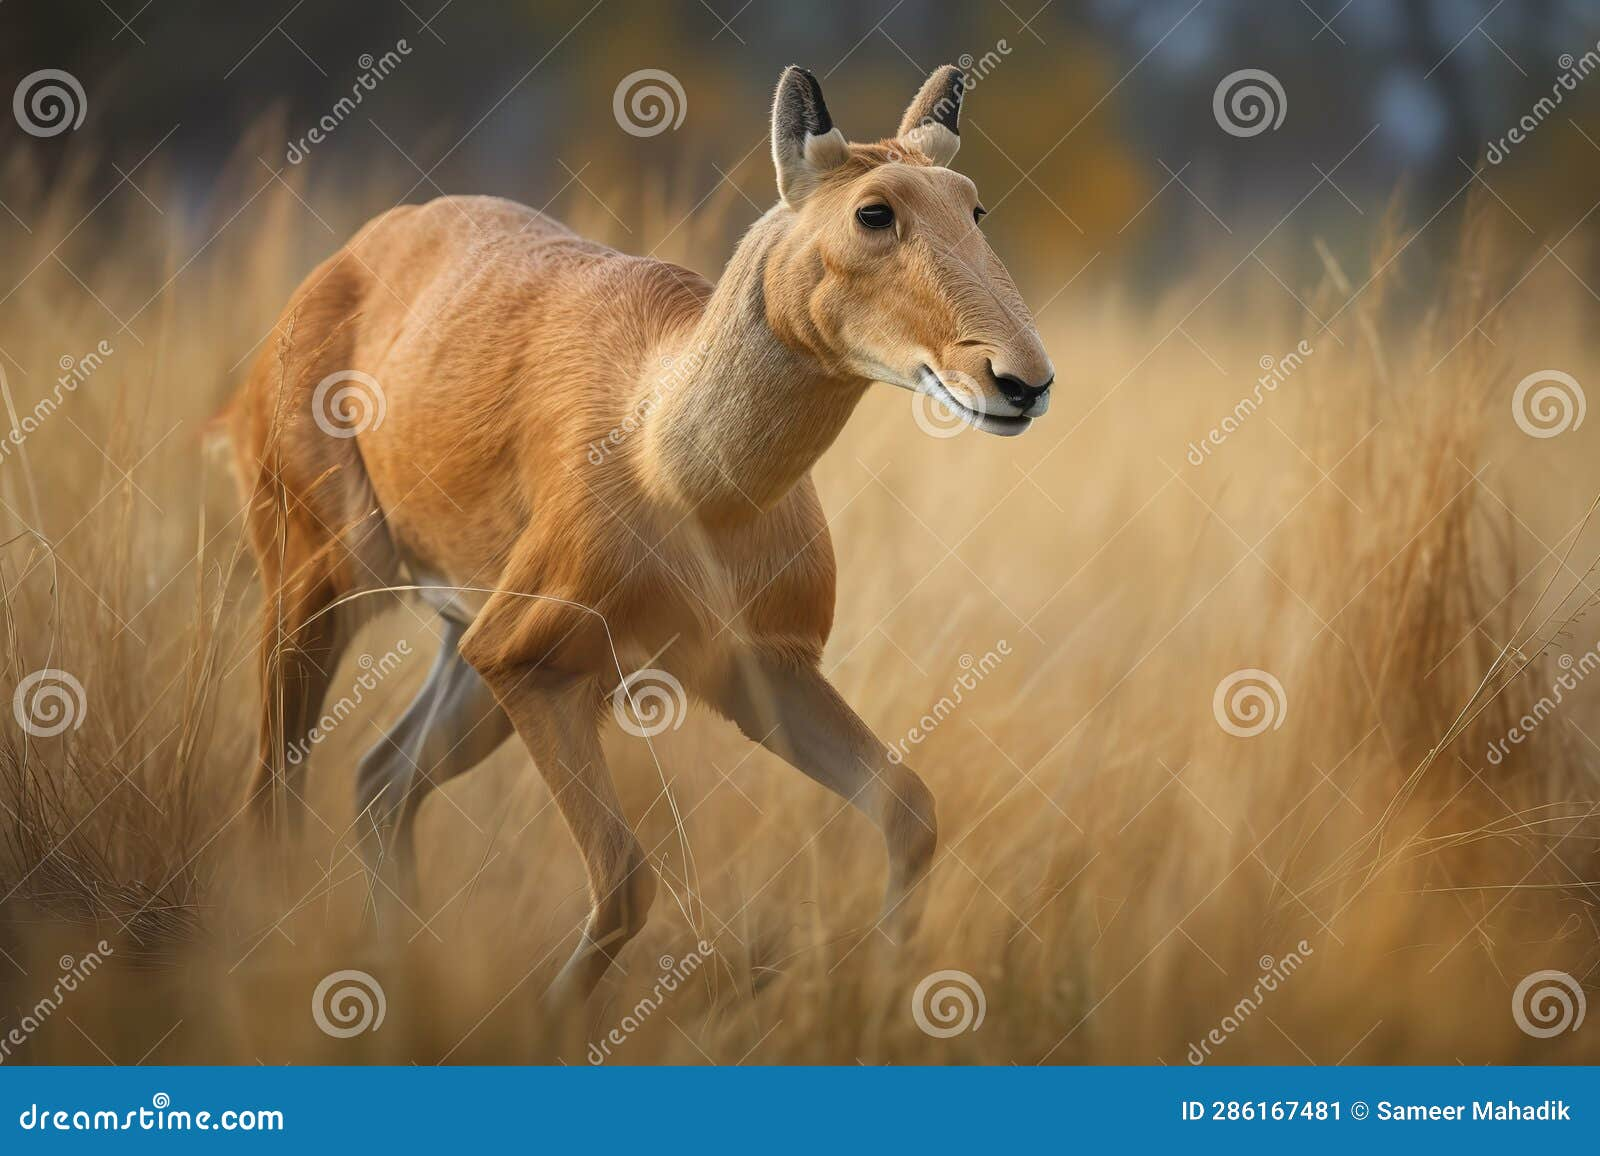saiga: (199, 61, 1060, 995)
